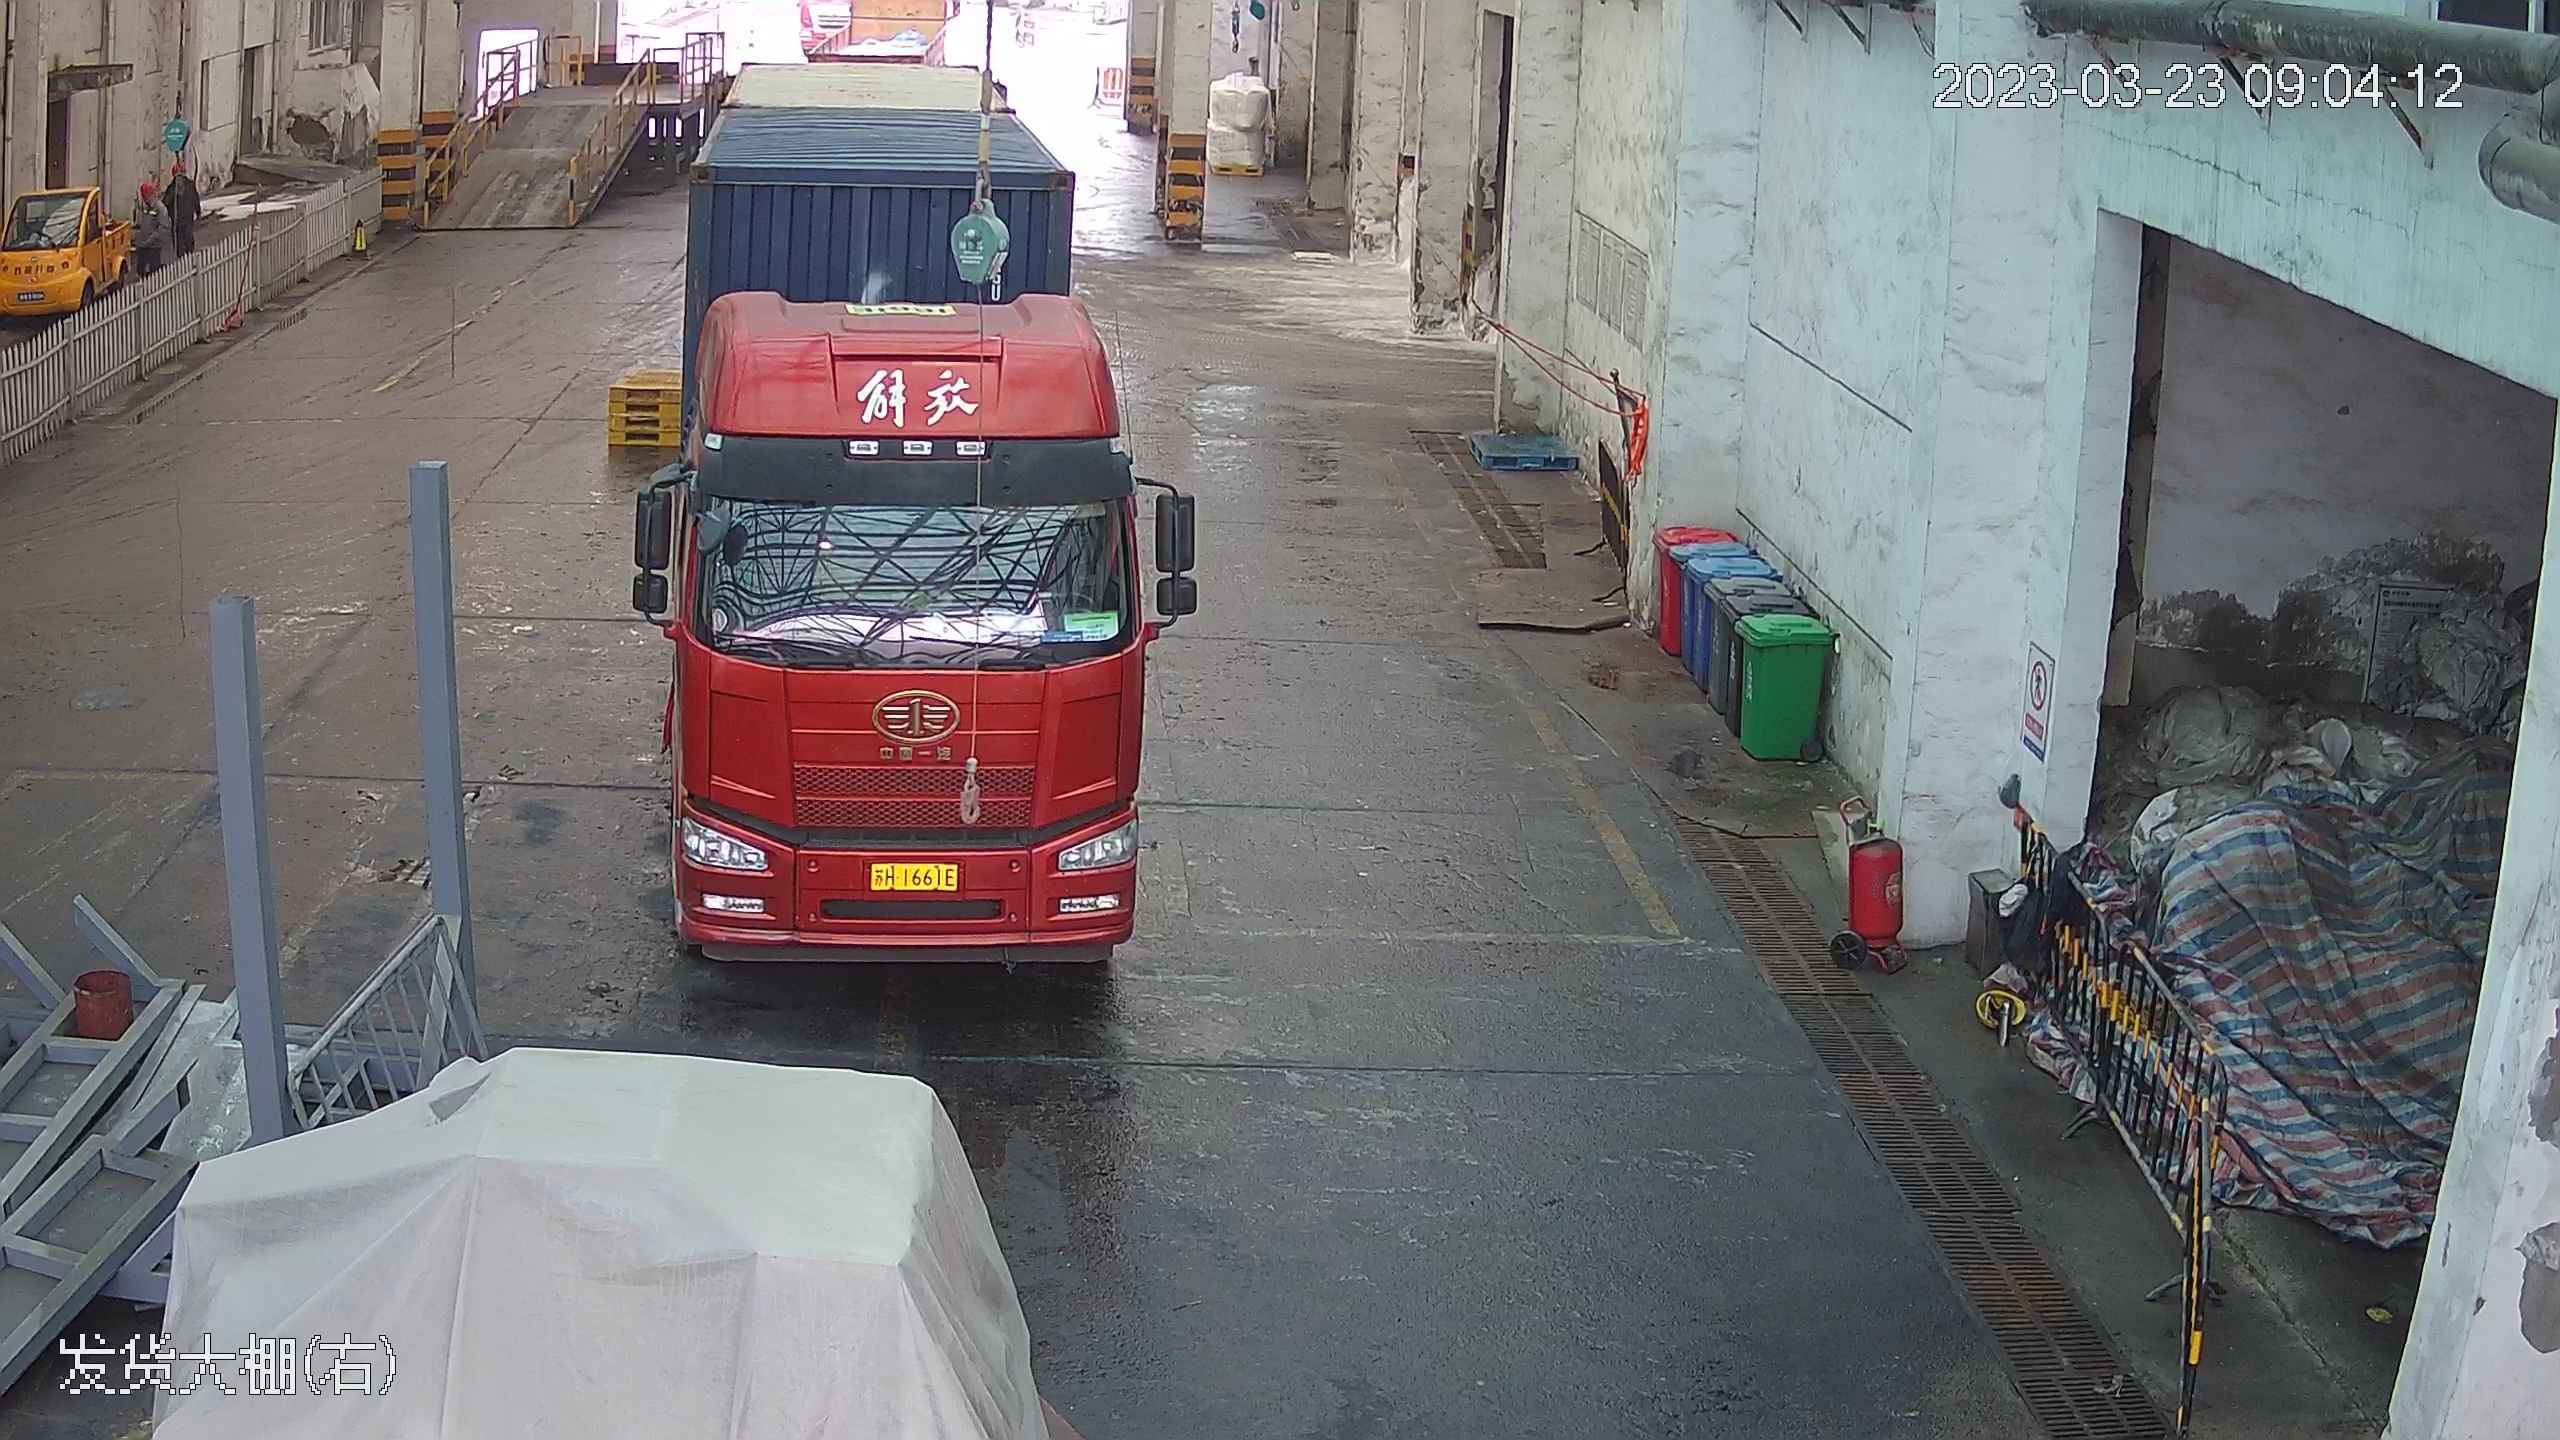head: (137, 180, 165, 226), (168, 153, 197, 191)
helmet: (139, 181, 156, 197), (171, 161, 186, 175)
people: (164, 158, 202, 271), (129, 180, 163, 272)
truck: (633, 24, 1177, 962)
